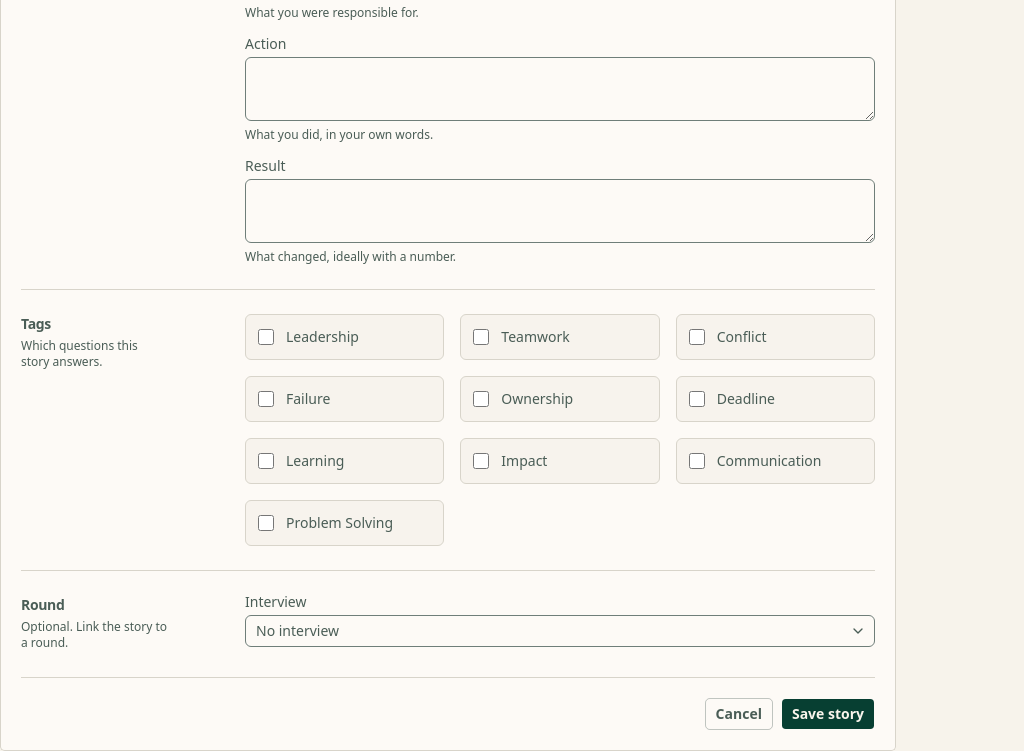
StoryFormPage › does not submit without a title
(page scrolled)
Click the button "Save story" at x=828, y=714, box [781,698,875,730]
(page scrolled)
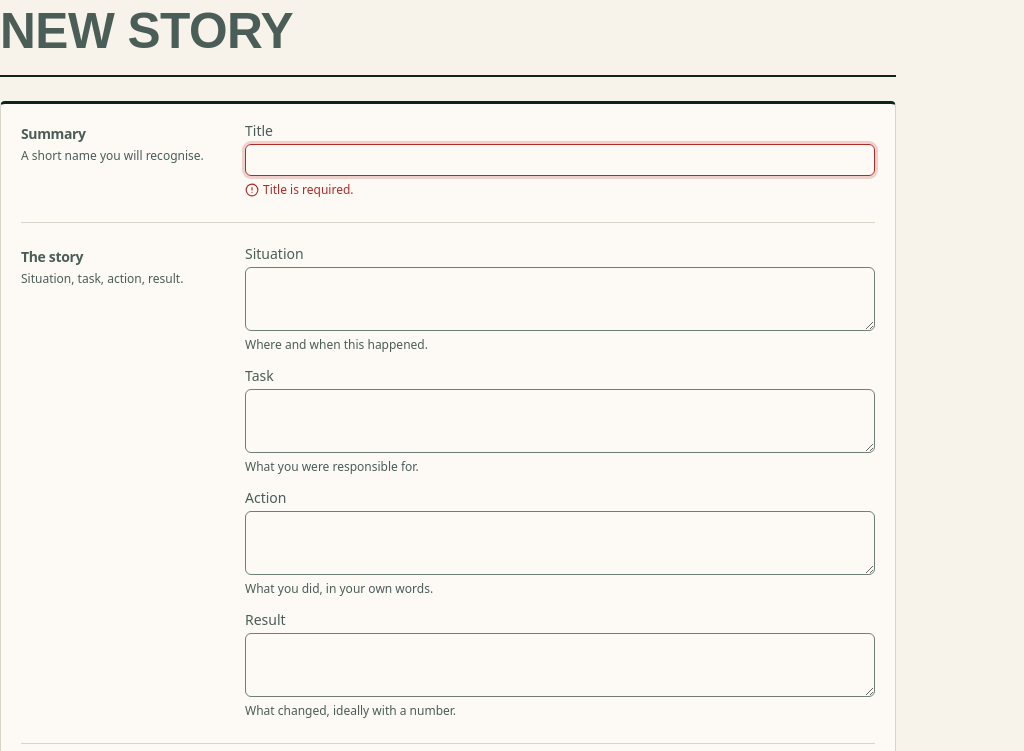
Now the text "Title is required." is shown, box [245,181,354,198]
